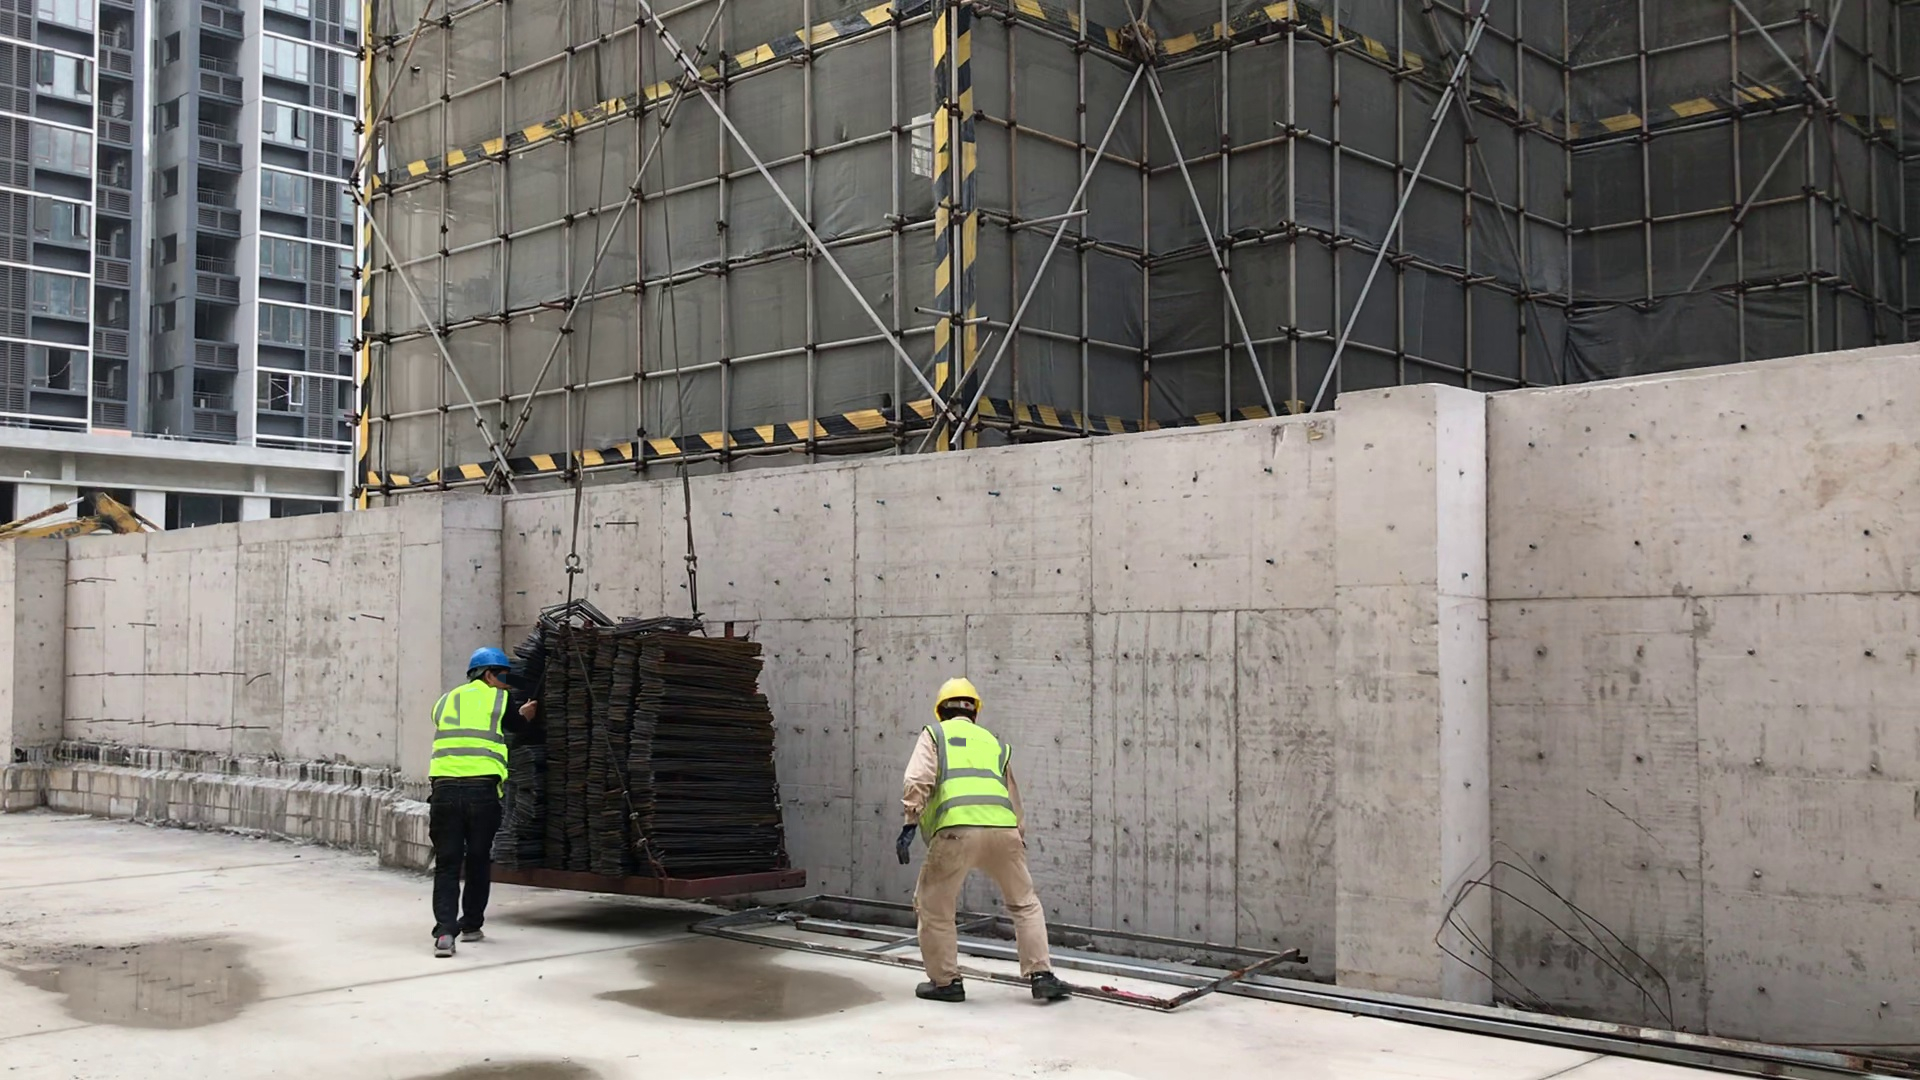helmet: (454, 647, 532, 692), (924, 663, 991, 715)
person: (879, 654, 1069, 1013), (419, 631, 515, 961)
vest: (908, 713, 1022, 835), (429, 687, 515, 786)
